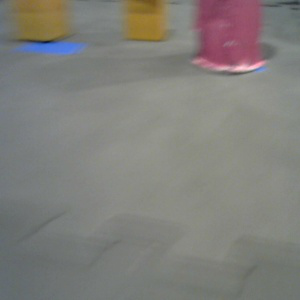right: (190, 1, 268, 73)
